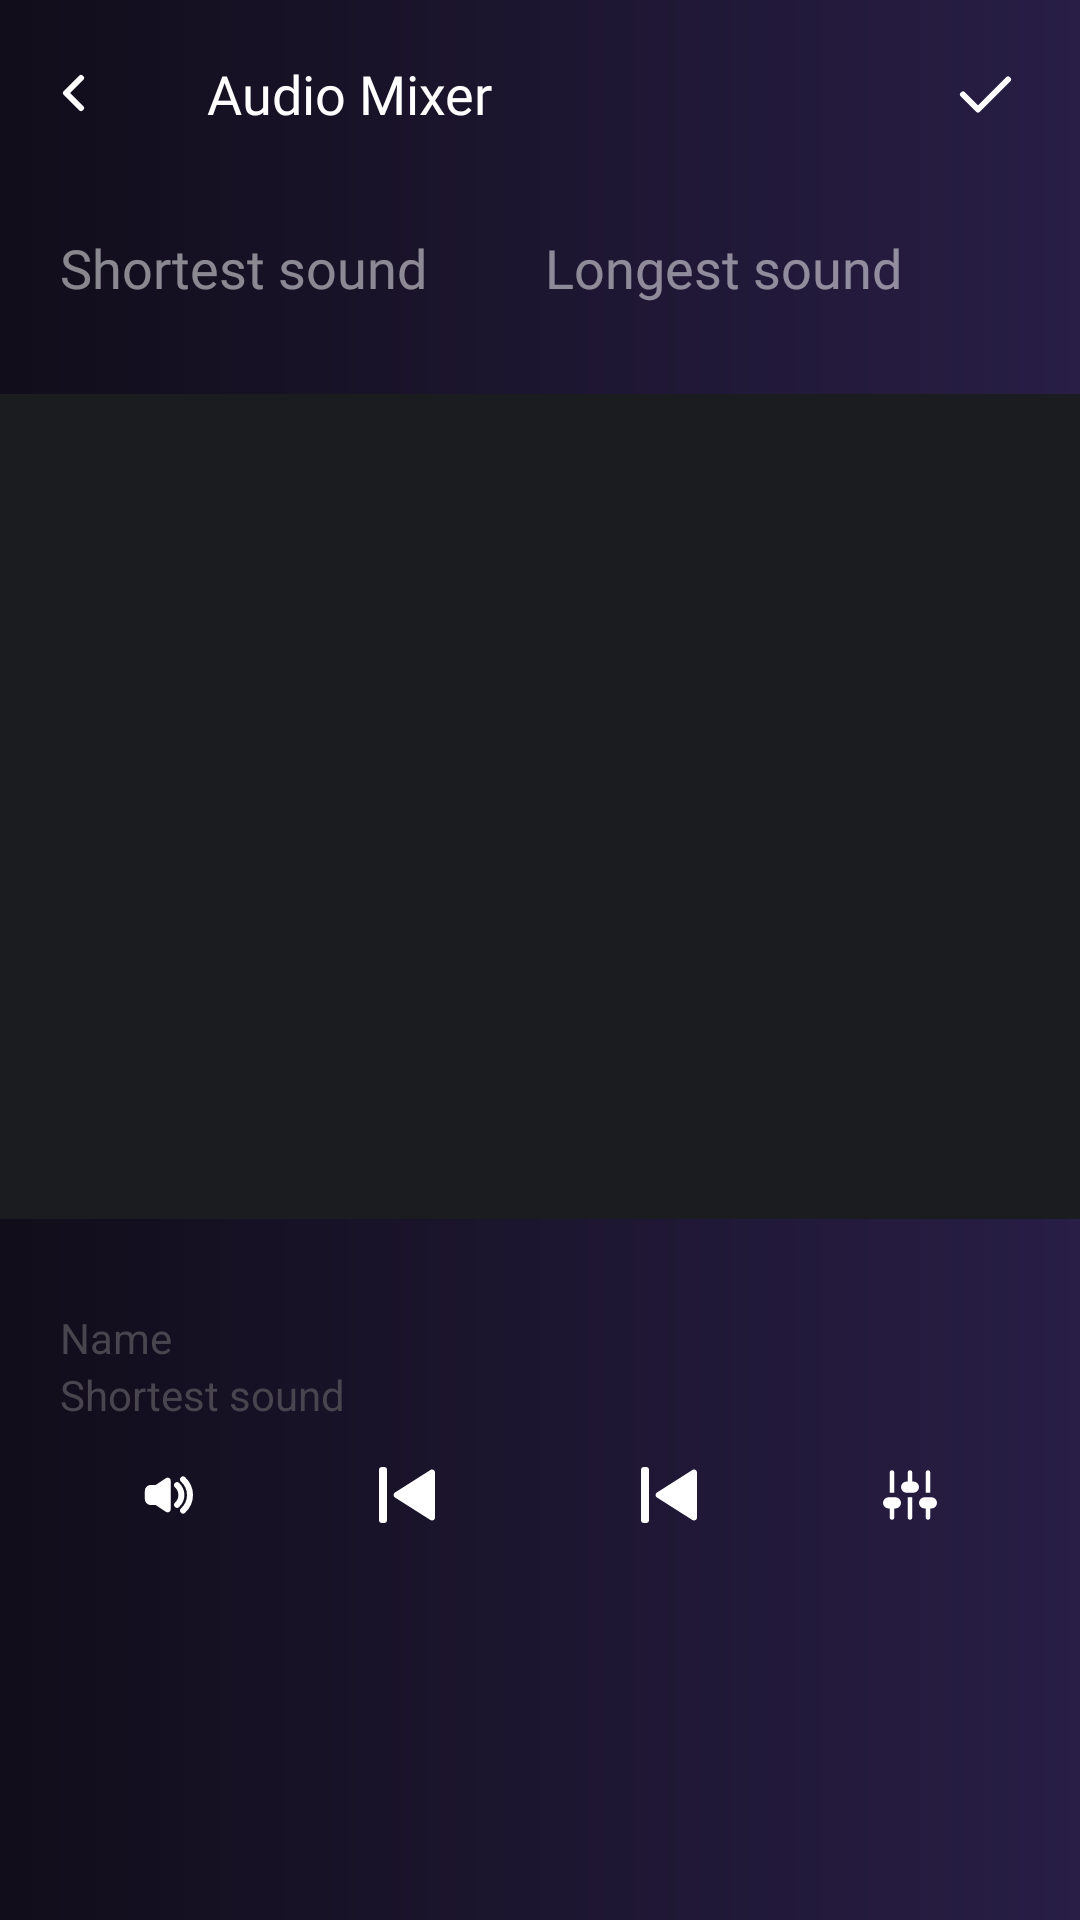

Locate icon controls on the screen. Image size 1080px x 1920px, boxes as BBox(x1, y1, x2, y2).
arrow smaller: BBox(63, 75, 84, 111)
equalizer: BBox(883, 1470, 937, 1520)
tabler check: BBox(959, 76, 1012, 113)
volume up: BBox(144, 1476, 193, 1514)
